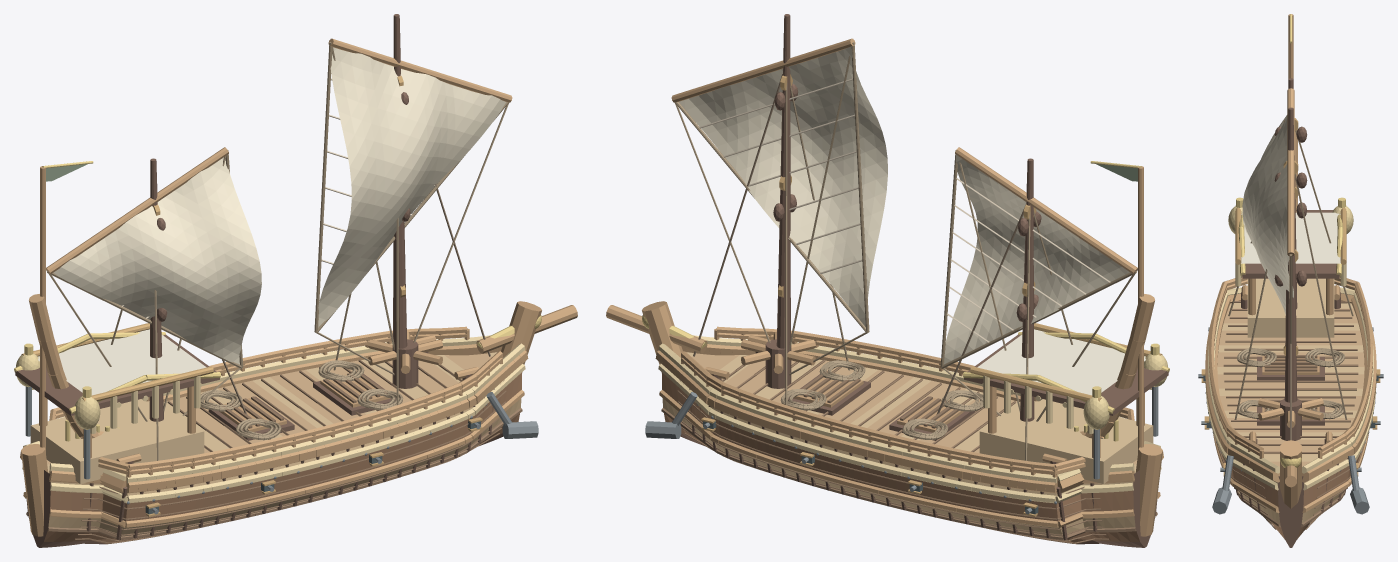
File: baghlah-v5.glb
3 views of the same model, side by side, from view 1: azimuth 30°, elevation 25°; view 2: azimuth 150°, elevation 25°; view 3: azimuth 270°, elevation 25° (orthographic). The views are drawn at different scales.
Visible parts, largest first — view 1: baghlah_sails_sail, baghlah_hull_wood, baghlah_hull_pale, baghlah_hull_hull2, baghlah_railings_wood, baghlah_deck_decklight, baghlah_hull_seam, baghlah_hull_deck, baghlah_ornament_sailbright, baghlah_rigging_rope, baghlah_hull_pine, baghlah_masts_darkwood (+16 smaller); view 2: baghlah_sails_sail, baghlah_hull_wood, baghlah_hull_pale, baghlah_hull_hull2, baghlah_railings_wood, baghlah_deck_decklight, baghlah_hull_seam, baghlah_rigging_rope, baghlah_masts_darkwood, baghlah_hull_deck, baghlah_ornament_sailbright, baghlah_hull_pine (+18 smaller); view 3: baghlah_hull_deck, baghlah_sails_sail, baghlah_hull_wood, baghlah_hull_seam, baghlah_deck_decklight, baghlah_hull_decklight, baghlah_railings_wood, baghlah_hull_pale, baghlah_ornament_sailbright, baghlah_masts_darkwood, baghlah_fittings_wood, baghlah_fittings_darkwood (+19 smaller).
Part boxes in pixels (x1,y1,x2,y2): baghlah_sails_sail: (53, 47, 506, 364); baghlah_hull_wood: (20, 301, 577, 536); baghlah_hull_pale: (22, 335, 525, 503); baghlah_hull_hull2: (44, 372, 522, 544); baghlah_railings_wood: (49, 326, 502, 486); baghlah_deck_decklight: (30, 399, 204, 483); baghlah_hull_seam: (26, 359, 522, 543); baghlah_hull_deck: (46, 353, 491, 474); baghlah_ornament_sailbright: (38, 329, 206, 395); baghlah_rigging_rope: (47, 42, 508, 421); baghlah_hull_pine: (48, 351, 521, 536); baghlah_masts_darkwood: (149, 14, 410, 421); baghlah_sails_sail: (679, 46, 1129, 364); baghlah_hull_wood: (606, 301, 1163, 536); baghlah_hull_pale: (658, 335, 1161, 503); baghlah_hull_hull2: (661, 372, 1139, 544); baghlah_railings_wood: (681, 326, 1134, 486); baghlah_deck_decklight: (979, 399, 1153, 483); baghlah_hull_seam: (661, 359, 1157, 543); baghlah_rigging_rope: (675, 42, 1136, 421); baghlah_masts_darkwood: (773, 14, 1041, 421); baghlah_hull_deck: (692, 353, 1137, 474); baghlah_ornament_sailbright: (977, 329, 1145, 395); baghlah_hull_pine: (662, 351, 1135, 536); baghlah_hull_deck: (1217, 308, 1364, 466); baghlah_sails_sail: (1242, 115, 1293, 314); baghlah_hull_wood: (1205, 293, 1376, 513); baghlah_hull_seam: (1217, 301, 1364, 529); baghlah_deck_decklight: (1247, 278, 1334, 337); baghlah_hull_decklight: (1217, 303, 1364, 461); baghlah_railings_wood: (1209, 277, 1372, 458); baghlah_hull_pale: (1205, 287, 1376, 490); baghlah_ornament_sailbright: (1241, 212, 1340, 263); baghlah_masts_darkwood: (1274, 78, 1307, 402); baghlah_fittings_wood: (1241, 285, 1340, 443); baghlah_fittings_darkwood: (1241, 292, 1340, 443).
Size of the model in its own units: 52.31 by 41 by 17.38.
